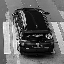motor: (13, 5, 53, 57)
